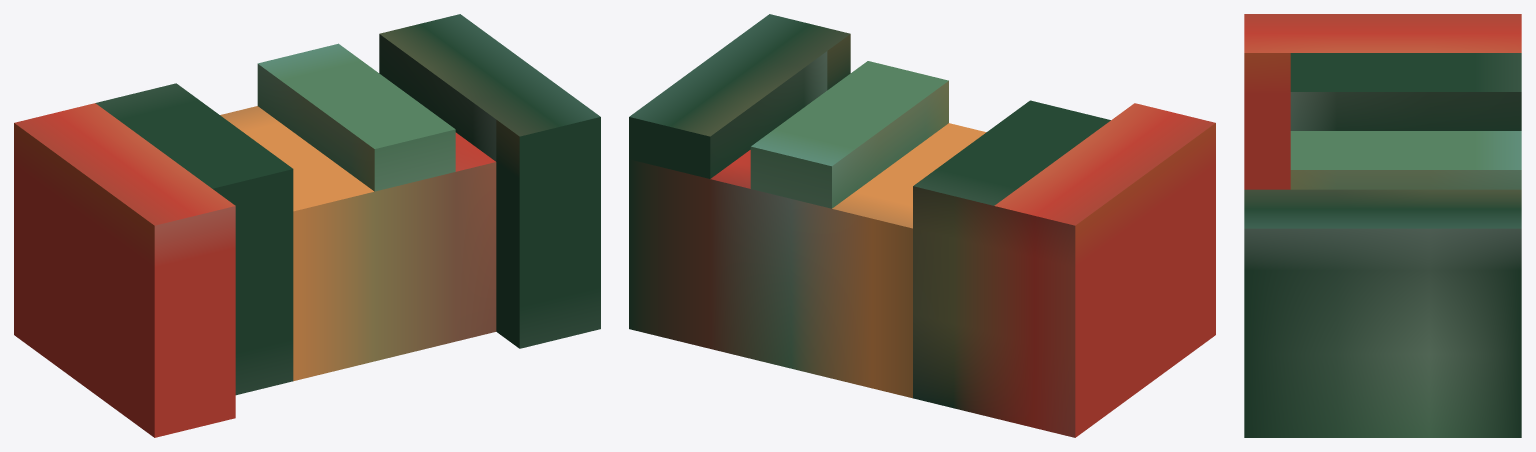
File: AssortedBooks_B_00.fbx
3 views of the same model, side by side, from view 1: azimuth 30°, elevation 25°; view 2: azimuth 150°, elevation 25°; view 3: azimuth 270°, elevation 25° (orthographic).
Parts seen in each view (by area): view 1: AssortedBooks_B_00; view 2: AssortedBooks_B_00; view 3: AssortedBooks_B_00.
Part boxes in pixels (box(x1,y1,x2,y2)): AssortedBooks_B_00: box(14, 14, 600, 437); AssortedBooks_B_00: box(629, 14, 1215, 437); AssortedBooks_B_00: box(1244, 14, 1521, 437).
Size of the model in its own units: 55 by 30 by 25.
1 material, 1 textured.
